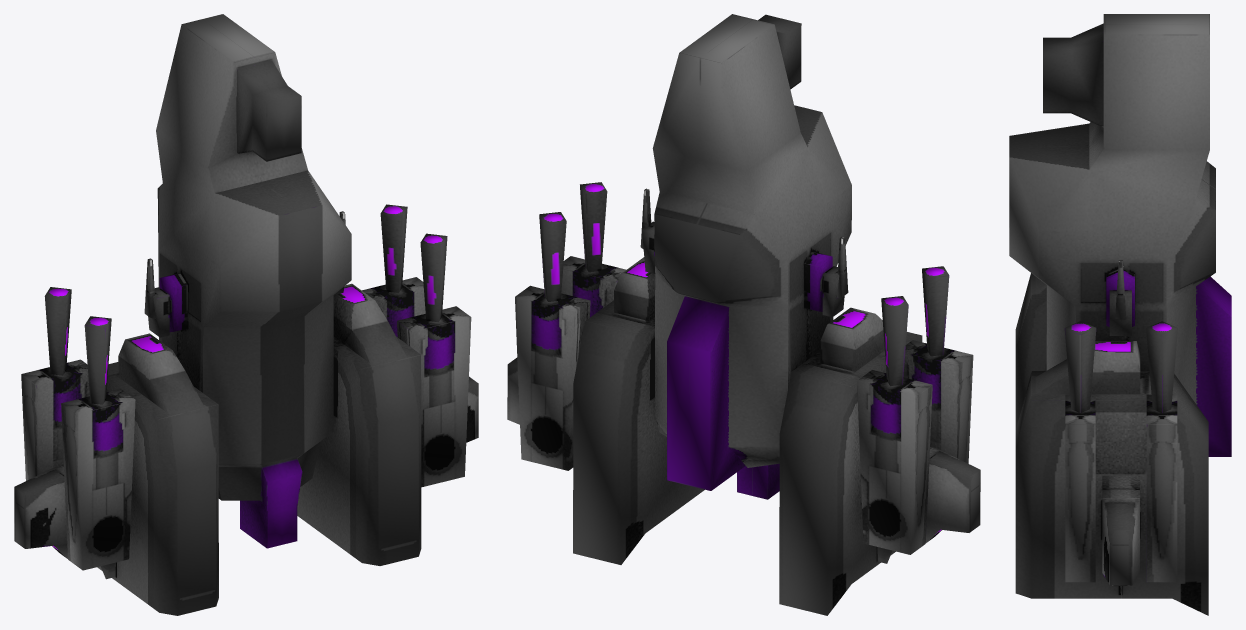
Rendered from purple_spaceship_03.fbx.
3 views of the same model, side by side, from view 1: azimuth 30°, elevation 25°; view 2: azimuth 150°, elevation 25°; view 3: azimuth 270°, elevation 25° (orthographic). The views are drawn at different scales.
Visible parts, largest first — view 1: PFrigateMod; view 2: PFrigateMod; view 3: PFrigateMod.
Boxes of the visible parts, x1,y1,x2,y2 form: PFrigateMod: (14,14,478,615); PFrigateMod: (507,14,980,615); PFrigateMod: (1009,14,1231,615).
Size of the model in its own units: 1947 by 808 by 2125.
